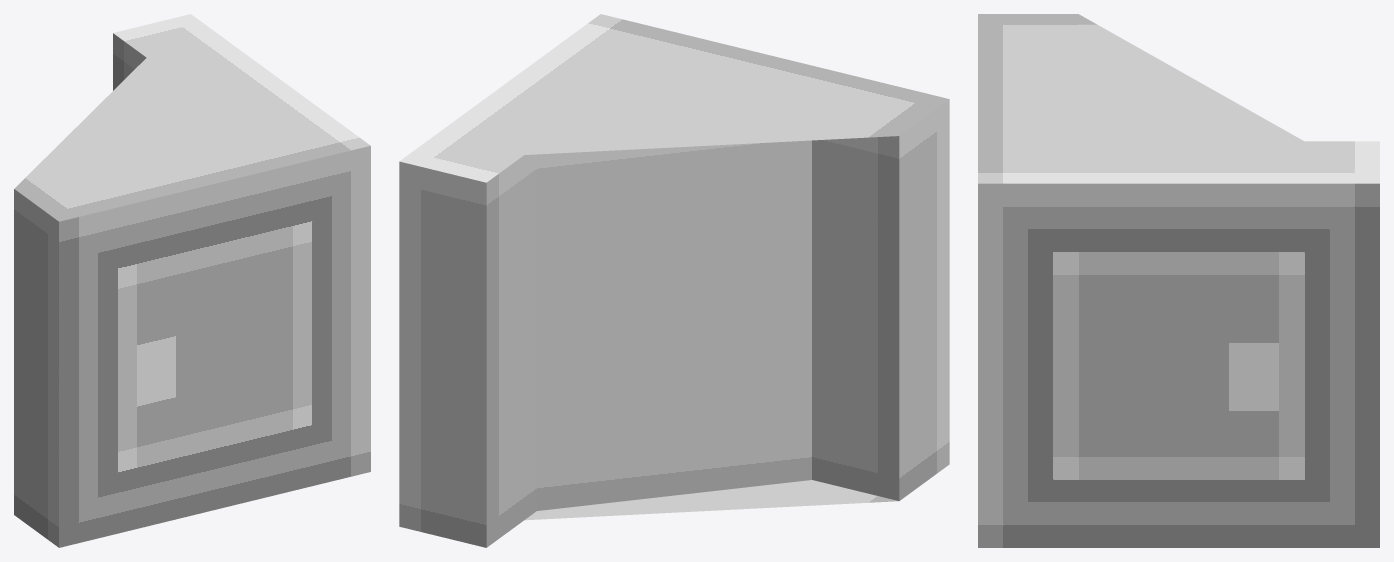
File: corner_vertical_chamfer.obj
The picture shows the model from 3 angles, left to right: view 1: azimuth 30°, elevation 25°; view 2: azimuth 150°, elevation 25°; view 3: azimuth 270°, elevation 25°; orthographic projection. The views are drawn at different scales.
Bounding box in the file's own units: 1 × 1 × 1.
